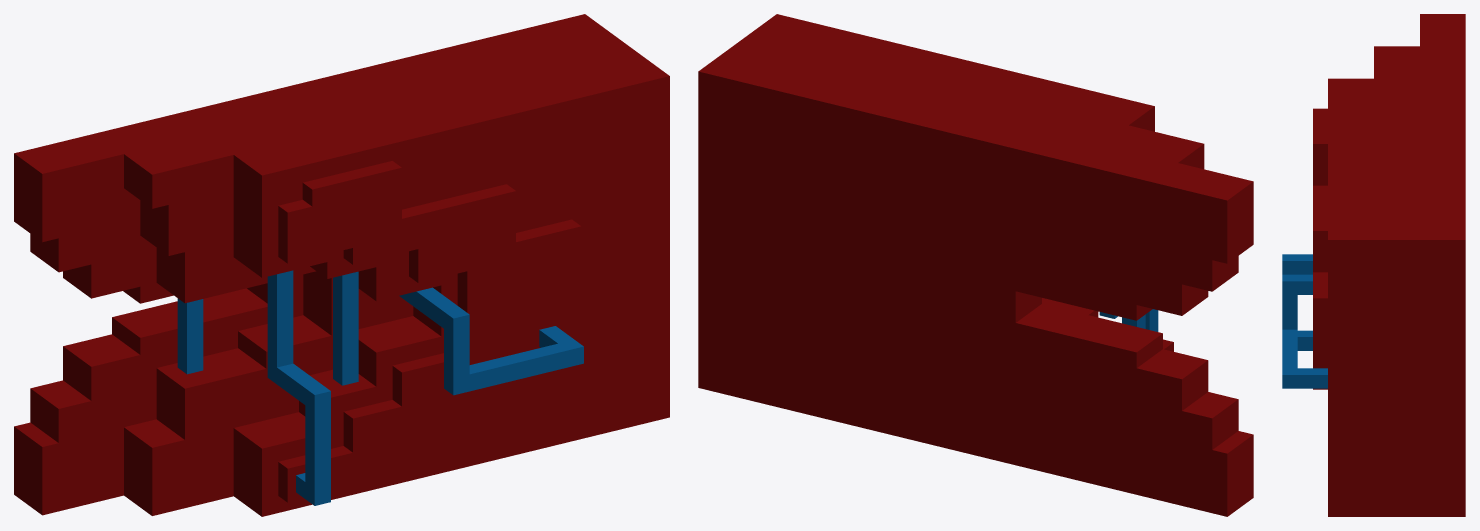
Rendered from 2x1 - pipes.obj.
3 views of the same model, side by side, from view 1: azimuth 30°, elevation 25°; view 2: azimuth 150°, elevation 25°; view 3: azimuth 270°, elevation 25° (orthographic). The views are drawn at different scales.
Size of the model in its own units: 70 by 40 by 24.
Materials: 1 (1 with a texture image).
